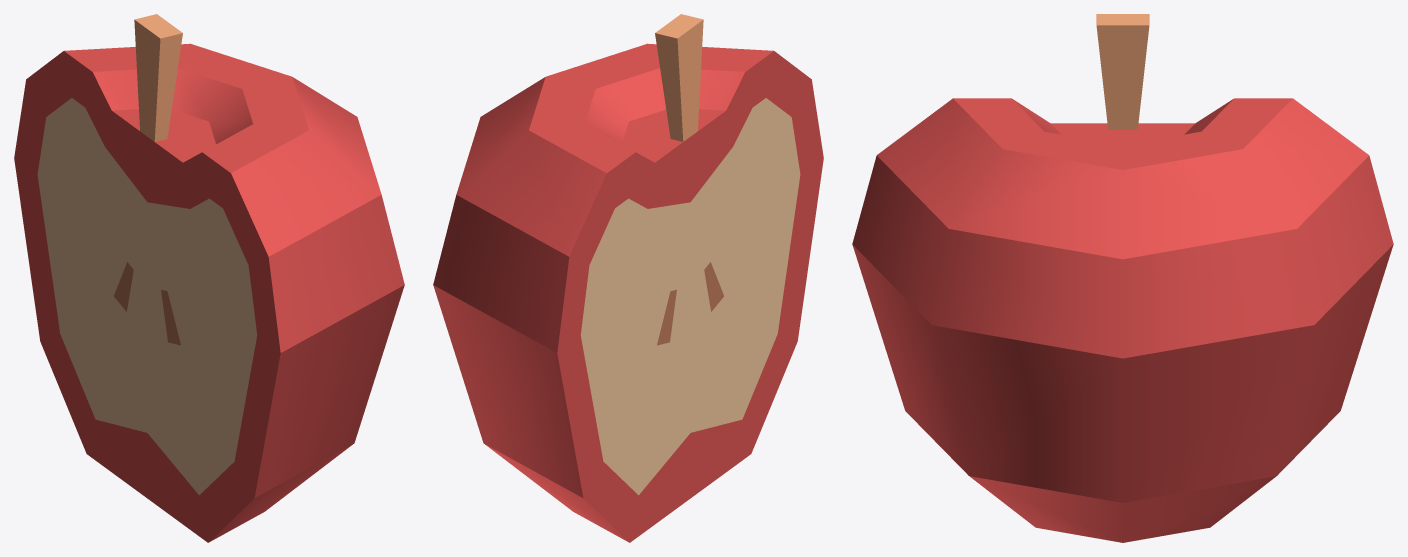
File: appleHalf.GLB
The picture shows the model from 3 angles, left to right: view 1: azimuth 30°, elevation 25°; view 2: azimuth 150°, elevation 25°; view 3: azimuth 270°, elevation 25°; orthographic projection.
Parts seen in each view (by area): view 1: appleHalf; view 2: appleHalf; view 3: appleHalf.
Boxes of the visible parts, x1=… form: appleHalf: x1=14, y1=14, x2=404, y2=542; appleHalf: x1=433, y1=14, x2=823, y2=542; appleHalf: x1=852, y1=14, x2=1393, y2=542.
Bounding box in the file's own units: 0.0981 × 0.1908 × 0.1963.
